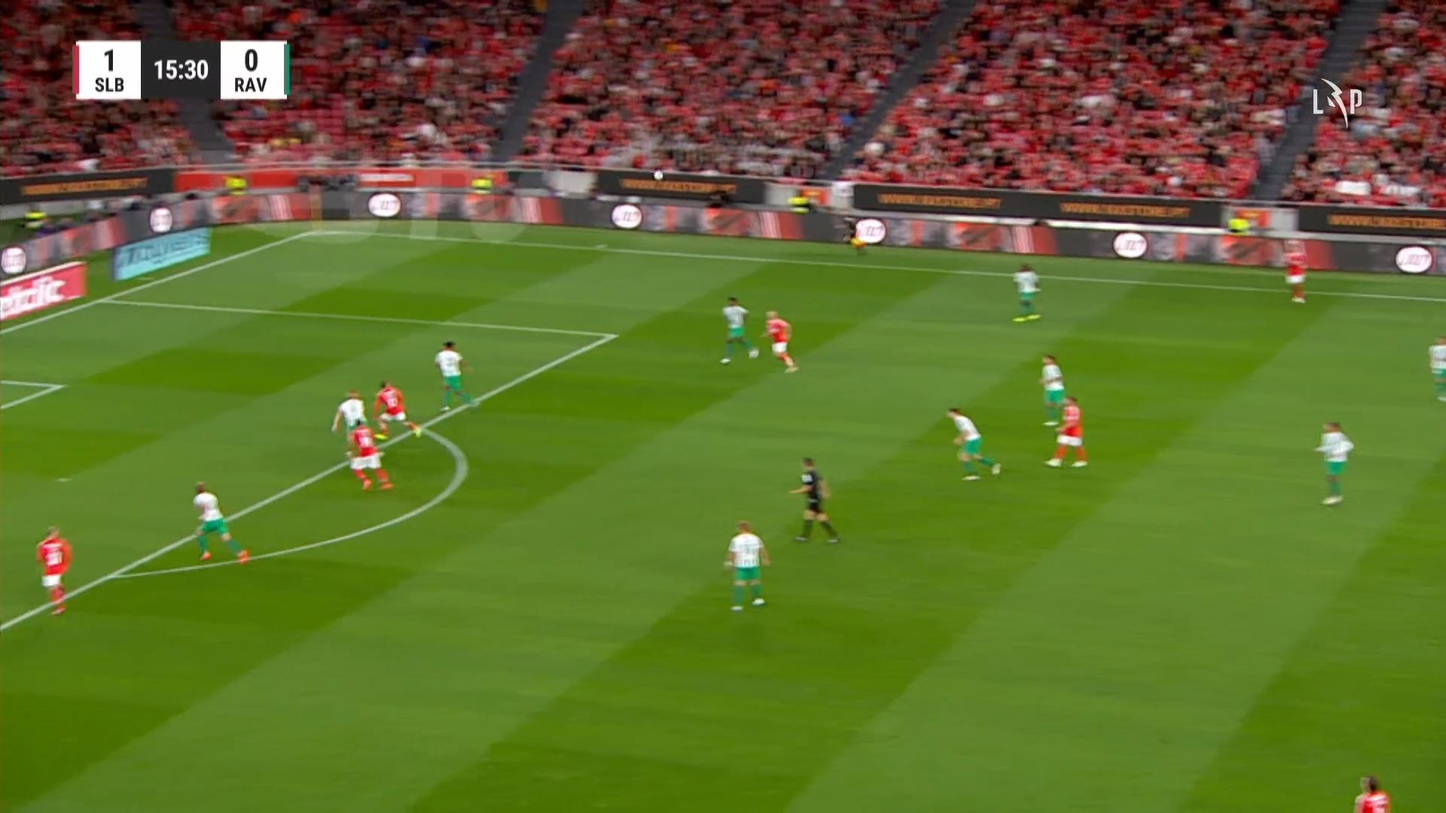player: (191, 480, 249, 564), (722, 520, 770, 611), (945, 405, 1001, 480), (1313, 419, 1353, 505), (346, 418, 393, 491), (35, 524, 72, 615), (1042, 394, 1088, 467), (433, 340, 479, 411), (372, 379, 422, 440), (718, 295, 758, 364), (330, 388, 367, 455), (760, 309, 798, 373), (1039, 354, 1066, 425), (1011, 262, 1042, 322), (1281, 239, 1308, 303), (1353, 774, 1390, 811), (1427, 336, 1445, 401)
referee: (787, 455, 840, 544), (841, 216, 868, 255)
